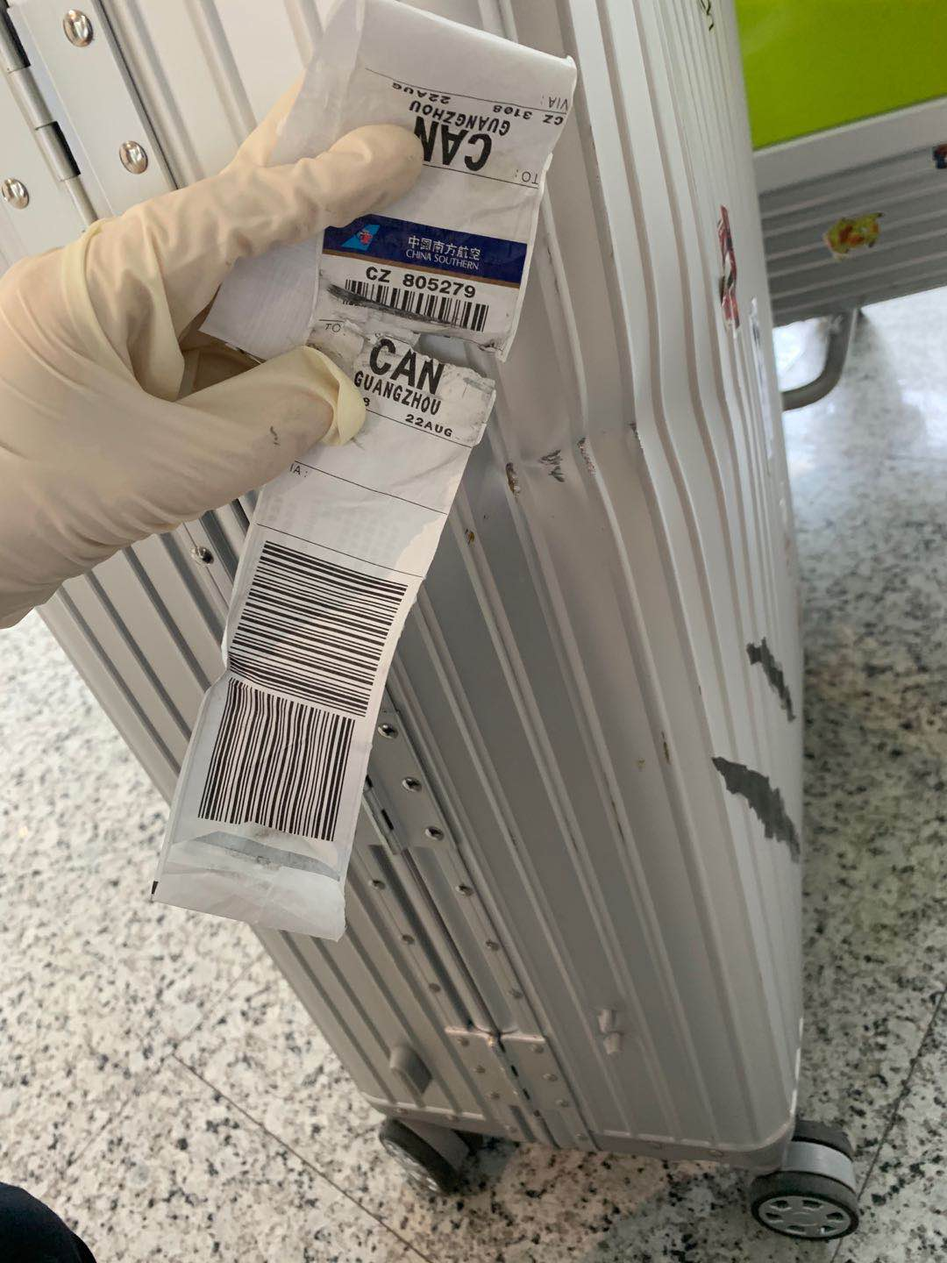hollow: (518, 303, 721, 539)
